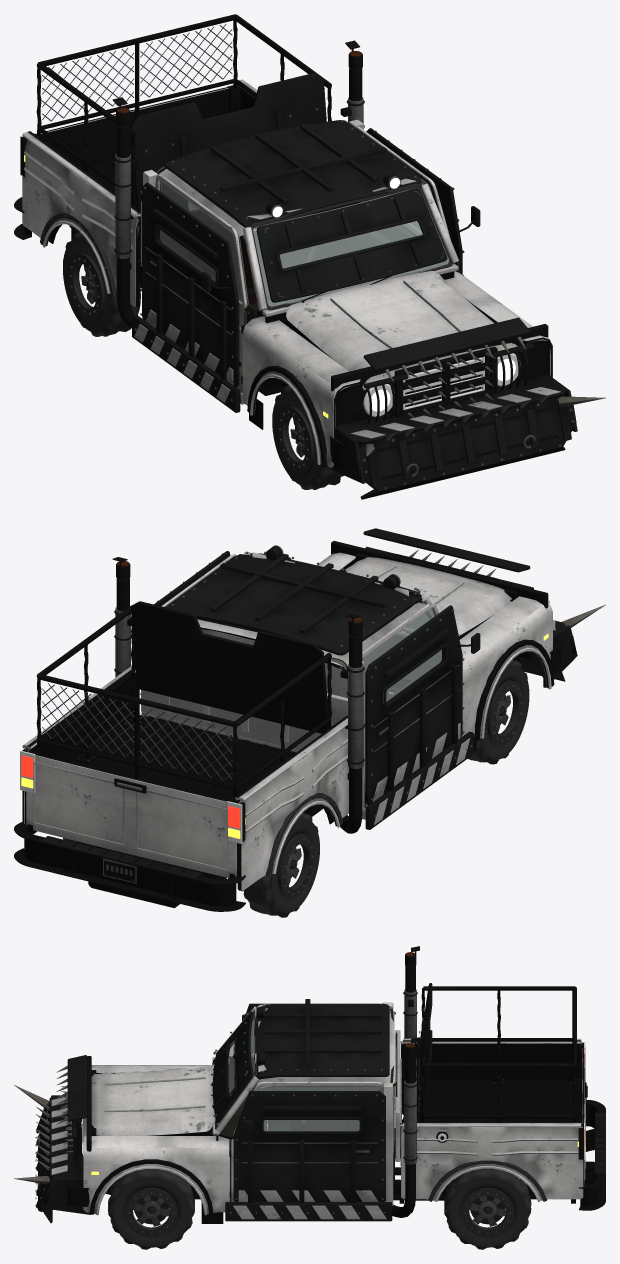
The model's file is truck_t3.glb.
3 views of the same model, one above another, from view 1: azimuth 30°, elevation 25°; view 2: azimuth 150°, elevation 25°; view 3: azimuth 270°, elevation 25° (orthographic). The views are drawn at different scales.
Visible parts, largest first — view 1: body, panel_bumper_F, panel_armor_roof, panel_armor_R, panel_hood, panel_armor_windshield, panel_fender_R, wheel_RR, panel_tailgate, wheel_FR, panel_door_R, panel_armor_L (+2 smaller); view 2: body, panel_tailgate, panel_armor_roof, panel_armor_R, panel_bumper_R, panel_fender_R, panel_hood, wheel_RR, wheel_FR, panel_door_R, panel_bumper_F, panel_armor_L; view 3: body, panel_armor_L, panel_armor_roof, panel_hood, panel_fender_L, wheel_RL, wheel_FL, panel_bumper_F, panel_door_L, panel_armor_windshield, panel_bumper_R, panel_fender_R (+1 smaller).
Part boxes in pixels (x1,y1,x2,y2): body: (20, 14, 548, 425); panel_bumper_F: (330, 374, 605, 499); panel_armor_roof: (164, 120, 421, 228); panel_armor_R: (140, 182, 239, 387); panel_hood: (286, 271, 521, 390); panel_armor_windshield: (256, 188, 447, 302); panel_fender_R: (242, 316, 360, 467); wheel_RR: (63, 232, 140, 336); panel_tailgate: (35, 87, 228, 168); wheel_FR: (272, 385, 344, 489); panel_door_R: (155, 174, 251, 392); panel_armor_L: (366, 128, 480, 275); body: (20, 528, 548, 908); panel_tailgate: (26, 754, 237, 878); panel_armor_roof: (166, 545, 421, 655); panel_armor_R: (365, 605, 480, 805); panel_bumper_R: (14, 822, 245, 911); panel_fender_R: (459, 596, 554, 751); panel_hood: (345, 557, 511, 636); wheel_RR: (243, 813, 319, 917); wheel_FR: (467, 660, 529, 764); panel_door_R: (362, 602, 441, 807); panel_bumper_F: (520, 601, 605, 687); panel_armor_L: (140, 551, 230, 713); body: (56, 946, 601, 1221); panel_armor_L: (233, 1091, 385, 1202); panel_armor_roof: (255, 999, 389, 1079); panel_hood: (83, 1066, 215, 1142); panel_fender_L: (83, 1136, 229, 1223); wheel_RL: (444, 1168, 531, 1249); wheel_FL: (108, 1169, 194, 1249); panel_bumper_F: (14, 1085, 90, 1223); panel_door_L: (229, 1081, 382, 1201); panel_armor_windshield: (210, 1011, 253, 1123); panel_bumper_R: (579, 1100, 605, 1210); panel_fender_R: (91, 1065, 212, 1073).
Size of the model in its own units: 2.56 by 2.42 by 5.99.
Materials: 18 (11 with a texture image).
